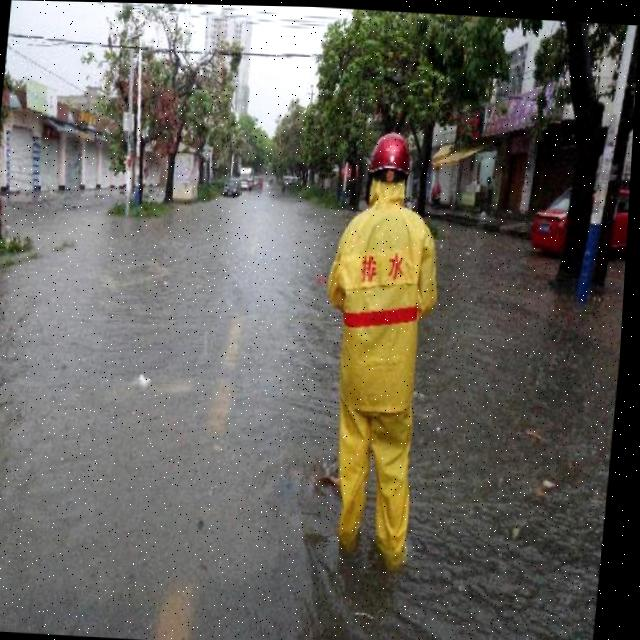rescuer: (299, 119, 467, 579)
